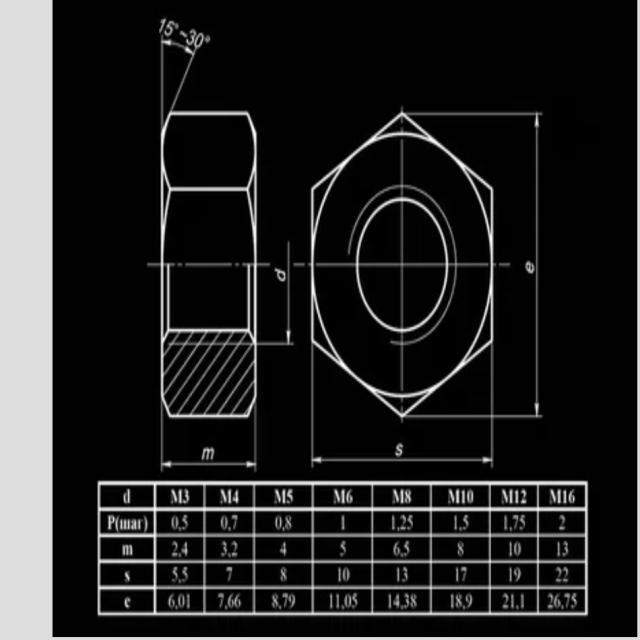marking_line: (495, 110, 542, 423), (308, 421, 493, 474), (158, 421, 260, 474), (260, 239, 294, 347), (158, 36, 202, 108)
numeric: (200, 445, 215, 460), (186, 27, 197, 44), (274, 267, 286, 282), (164, 21, 175, 37), (279, 565, 288, 583), (284, 514, 293, 532), (513, 567, 522, 585), (158, 17, 167, 34), (460, 566, 469, 583), (387, 591, 394, 612), (220, 515, 229, 531), (219, 541, 228, 557), (229, 541, 238, 557), (279, 541, 288, 557), (400, 514, 408, 532), (513, 540, 522, 556), (502, 592, 510, 610), (512, 514, 520, 532), (563, 592, 571, 610), (570, 592, 578, 610), (271, 594, 279, 611), (346, 488, 354, 505), (177, 593, 185, 609), (393, 541, 401, 557), (455, 593, 463, 609), (569, 489, 577, 505), (169, 592, 176, 610), (231, 513, 238, 531), (340, 514, 347, 532), (341, 568, 350, 582), (519, 515, 526, 533), (195, 33, 203, 48), (466, 490, 474, 505), (547, 593, 555, 608), (226, 567, 233, 584), (282, 593, 289, 610), (287, 488, 294, 505), (182, 539, 188, 558), (217, 592, 223, 611), (463, 513, 469, 532), (172, 541, 179, 557), (234, 593, 241, 609), (351, 593, 358, 609), (410, 594, 417, 610), (403, 541, 410, 557), (407, 515, 414, 531), (405, 489, 412, 505), (520, 489, 527, 505), (558, 516, 566, 530), (554, 593, 561, 609), (402, 565, 408, 583), (454, 567, 460, 585), (449, 592, 455, 610), (507, 542, 513, 560), (556, 565, 562, 583), (562, 540, 568, 558), (182, 515, 189, 530), (233, 487, 239, 504), (228, 593, 234, 610), (341, 540, 347, 557), (172, 516, 179, 530), (345, 595, 352, 609), (466, 594, 473, 608), (182, 567, 188, 583), (289, 594, 295, 610), (275, 515, 281, 531), (457, 541, 463, 557), (563, 567, 569, 583), (183, 488, 189, 503), (172, 566, 177, 584), (454, 515, 459, 533), (329, 593, 334, 610), (503, 515, 508, 532), (562, 490, 568, 504), (394, 593, 399, 609), (404, 593, 409, 609), (556, 541, 561, 557), (186, 594, 191, 609), (508, 567, 513, 582), (521, 594, 526, 609), (336, 594, 340, 611), (514, 489, 518, 506), (178, 490, 182, 506), (392, 516, 396, 532), (511, 594, 515, 610), (461, 489, 465, 505), (338, 567, 342, 582), (396, 567, 399, 584)
special_symbol: (205, 35, 210, 44)
